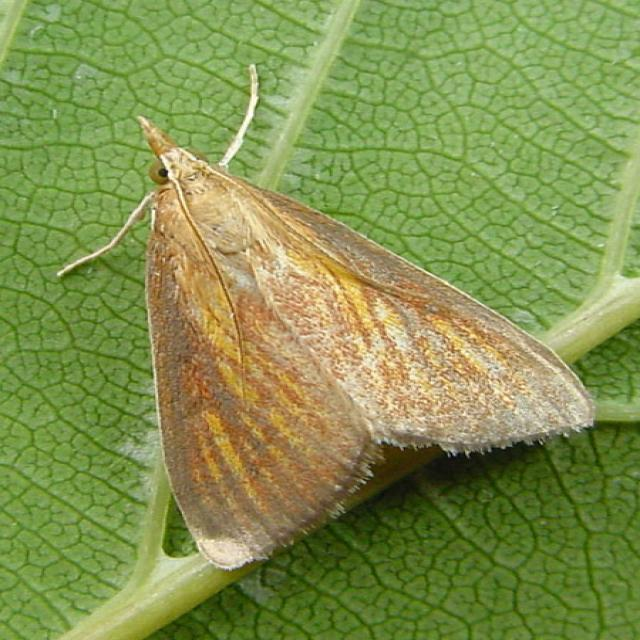cornborer-Adult-: (50, 59, 607, 572)
